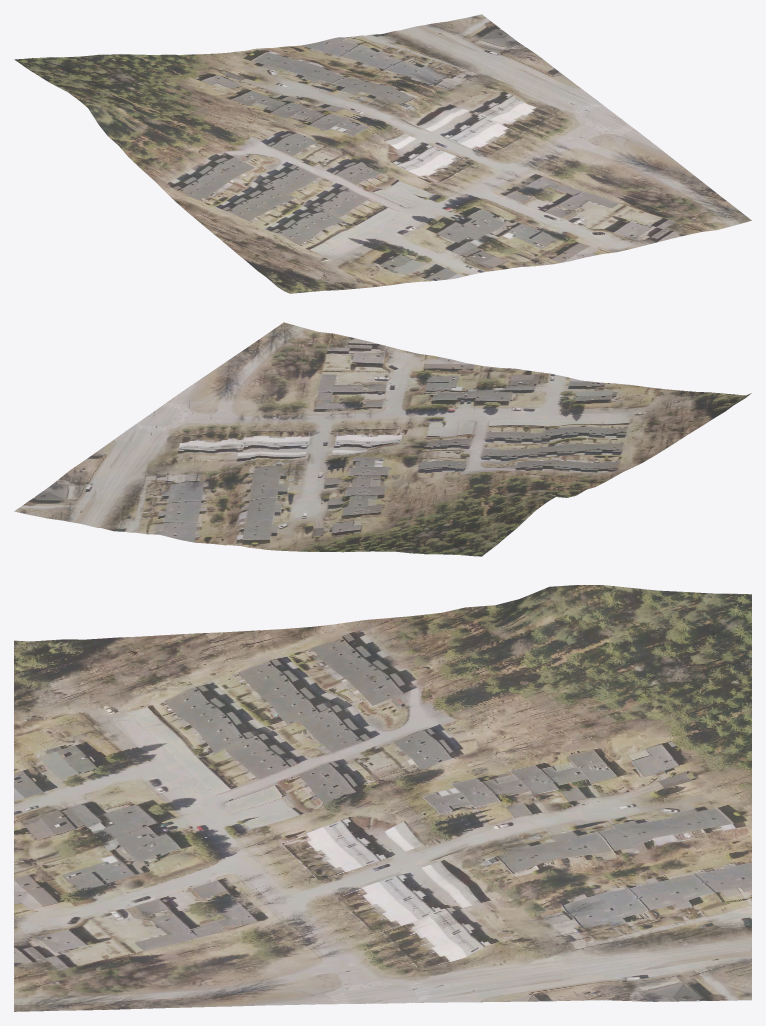
File: CM_Terrain_24492097_6817132.fbx
3 views of the same model, one above another, from view 1: azimuth 30°, elevation 25°; view 2: azimuth 150°, elevation 25°; view 3: azimuth 270°, elevation 25° (orthographic). The views are drawn at different scales.
Visible parts, largest first — view 1: CM_Terrain_24492097_6817132_LOD0; view 2: CM_Terrain_24492097_6817132_LOD0; view 3: CM_Terrain_24492097_6817132_LOD0.
Boxes of the visible parts, left/top/right/bottom form: CM_Terrain_24492097_6817132_LOD0: left=14, top=14, right=751, bottom=293; CM_Terrain_24492097_6817132_LOD0: left=14, top=322, right=751, bottom=556; CM_Terrain_24492097_6817132_LOD0: left=14, top=585, right=751, bottom=1011.
Size of what is drawn, in the model's own units: 205 by 35.66 by 205.
